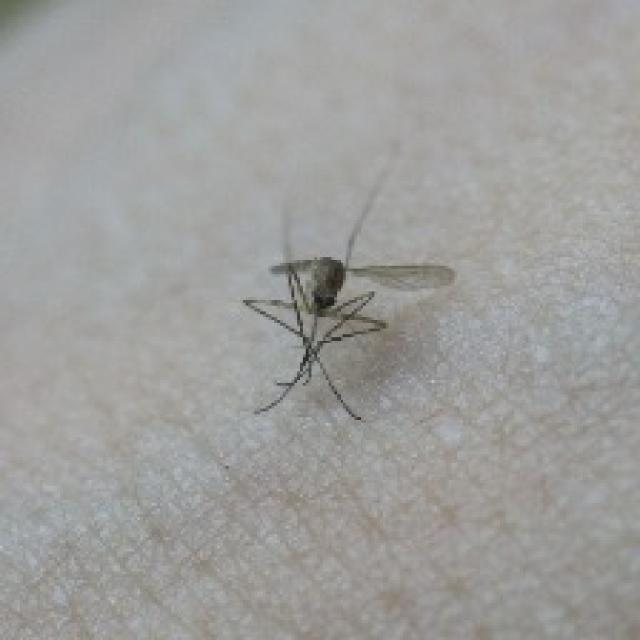culex: (240, 137, 454, 420)
